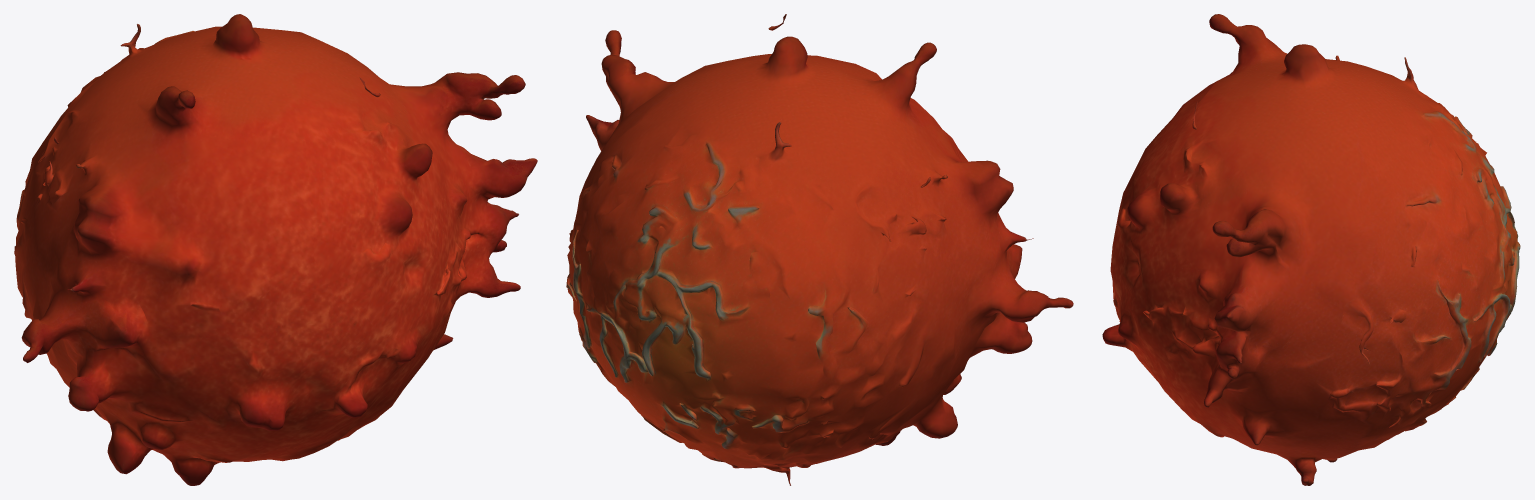
The model's file is Energy Sphere.fbx.
3 renders of one model, left to right at view 1: azimuth 30°, elevation 25°; view 2: azimuth 150°, elevation 25°; view 3: azimuth 270°, elevation 25°, orthographic. The views are drawn at different scales.
Parts seen in each view (by area): view 1: Mesh_0; view 2: Mesh_0; view 3: Mesh_0.
Boxes of the visible parts, x1,y1,x2,y2 form: Mesh_0: [14, 14, 537, 485]; Mesh_0: [566, 14, 1073, 485]; Mesh_0: [1102, 14, 1520, 485].
Size of the model in its own units: 94.97 by 76.86 by 73.63.
1 material, 1 textured.
